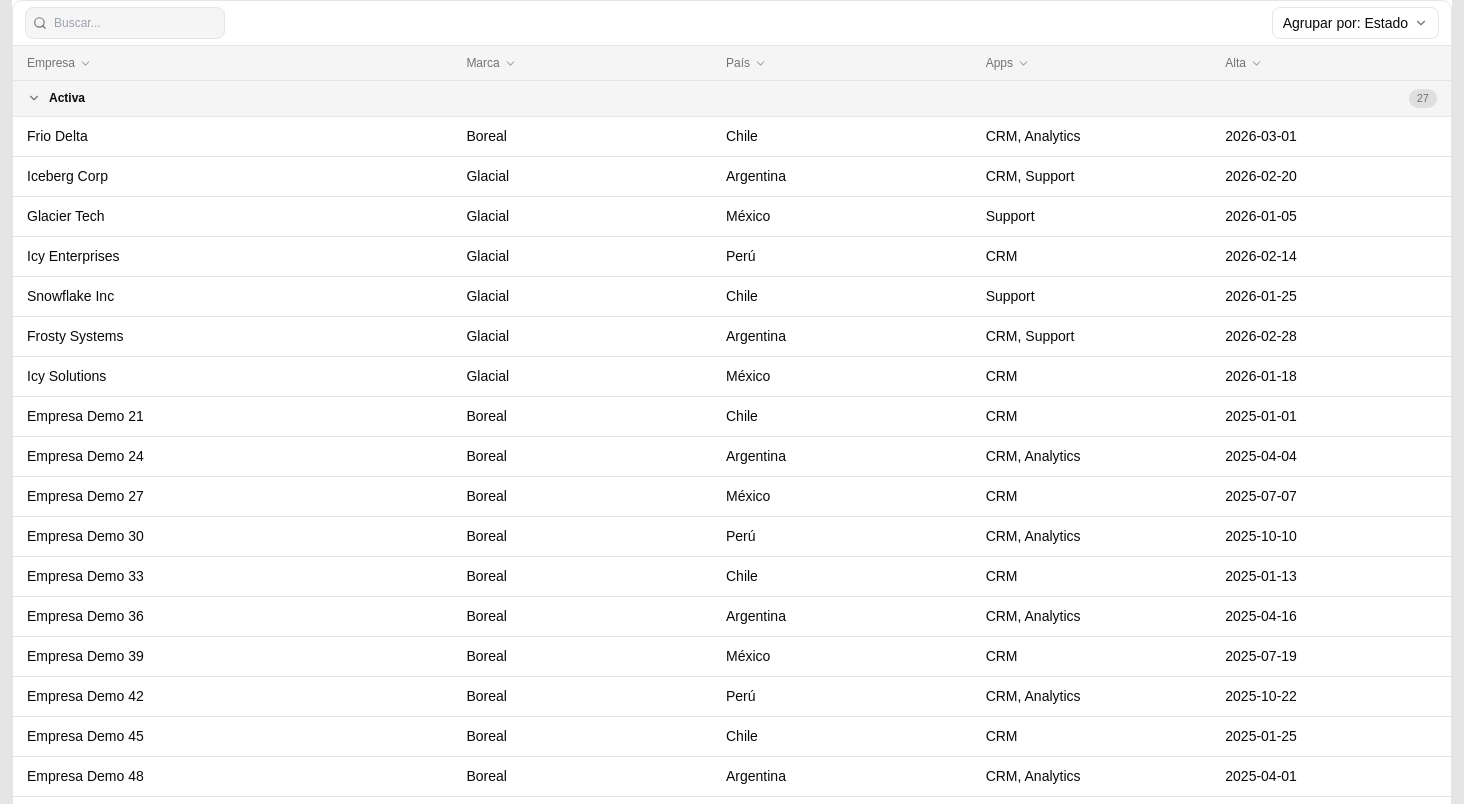
it: groups the rows and collapses a group from its toggle
Click the button with class "gdy-table-group-toggle".
click(67, 98)  # box [13, 81, 1451, 116]
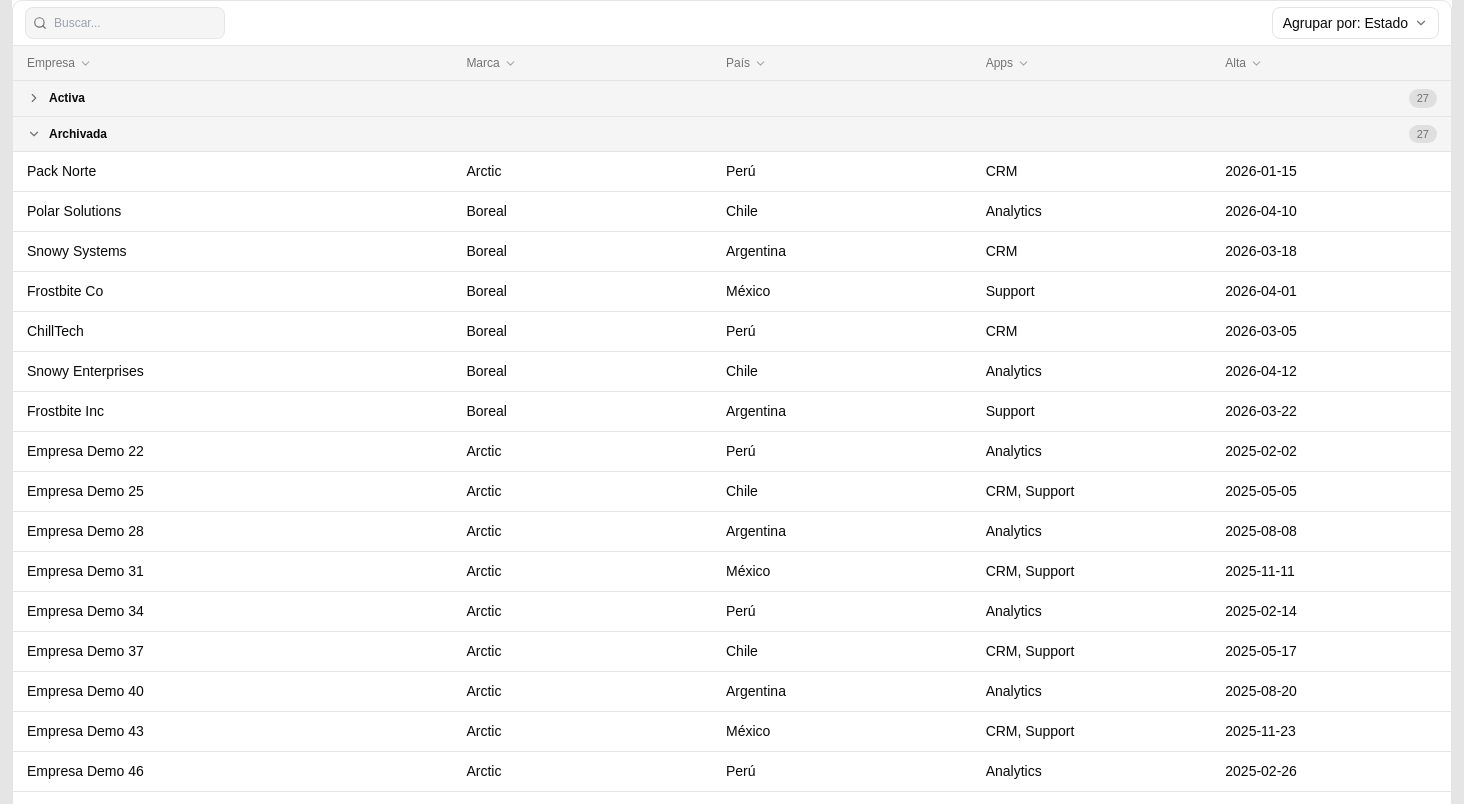
Check: the button with class "gdy-table-group-toggle" is collapsed, box [13, 81, 1451, 116]
Check: the number of rows with class "gdy-table-row" is 53
